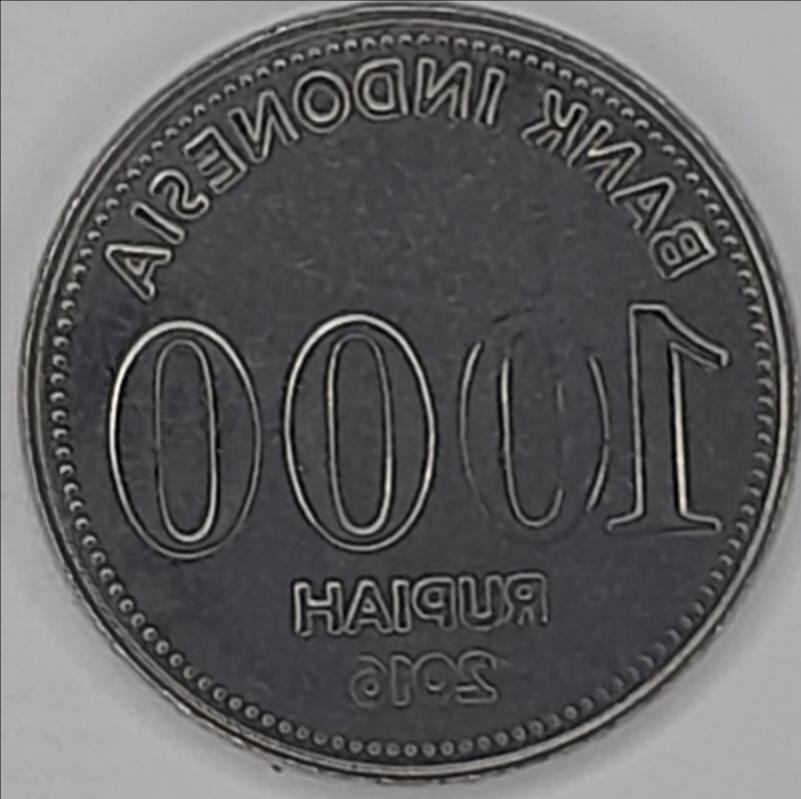coin_1000_e2016: (14, 16, 790, 799)
